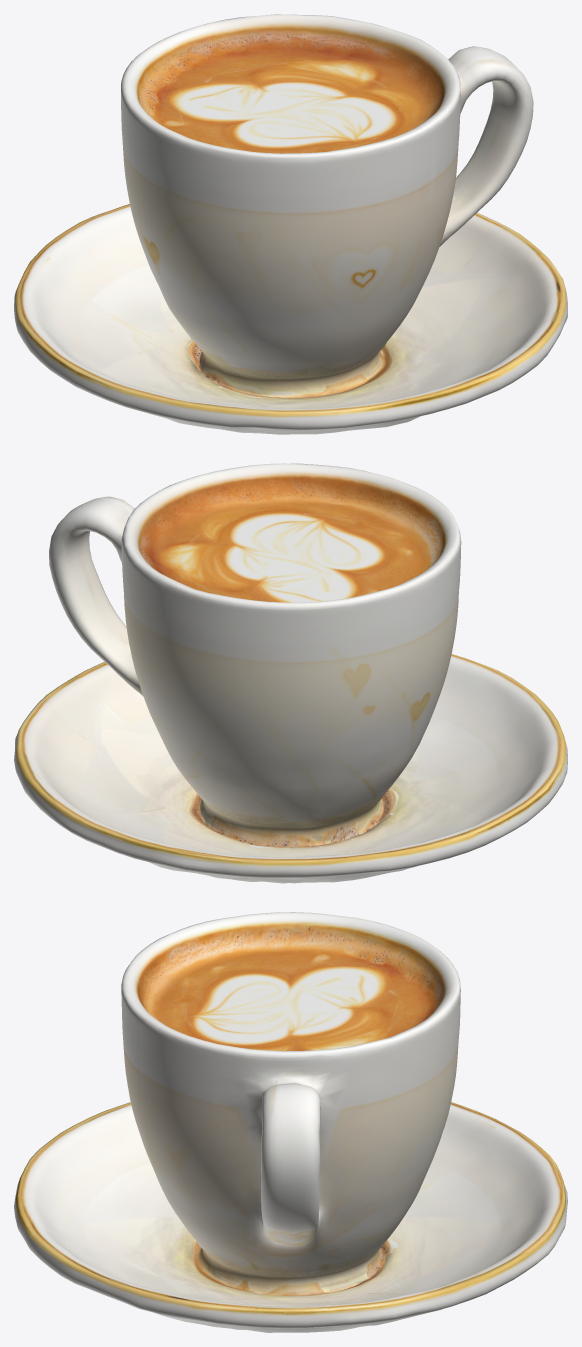
File: Coffee_0515152447_texture.fbx
The picture shows the model from 3 angles, top to bottom: view 1: azimuth 30°, elevation 25°; view 2: azimuth 150°, elevation 25°; view 3: azimuth 270°, elevation 25°; orthographic projection.
Visible parts, largest first — view 1: input; view 2: input; view 3: input.
Boxes of the visible parts, left/top/right/bottom form: input: left=14, top=14, right=567, bottom=434; input: left=14, top=463, right=567, bottom=883; input: left=14, top=912, right=567, bottom=1332.
Size of the model in its own units: 200 by 121 by 200.
1 material, 1 textured.
